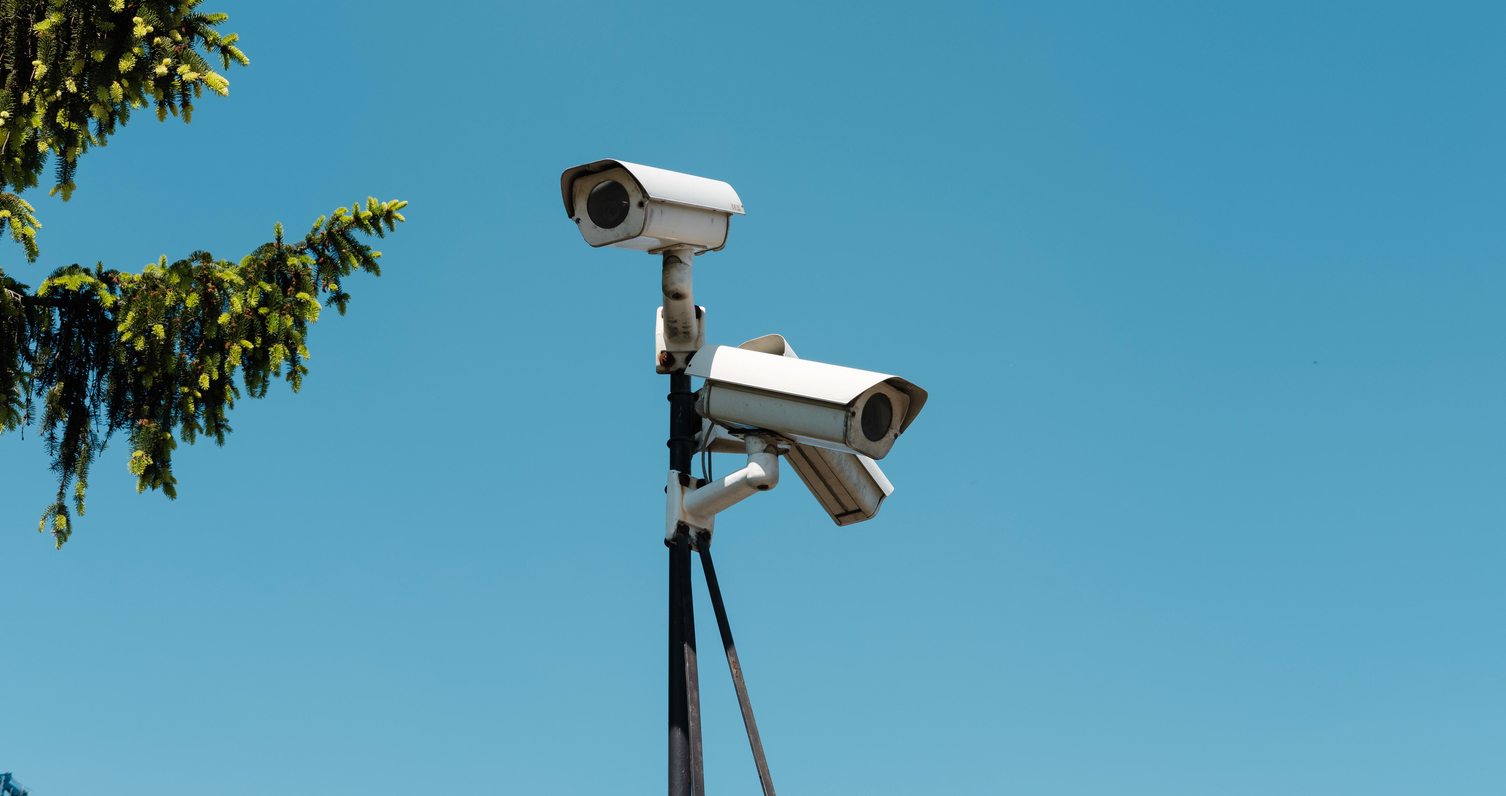camera: (714, 328, 991, 602), (651, 325, 976, 495), (525, 129, 770, 294)
